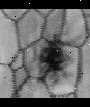good_void: (35, 35, 65, 82)
